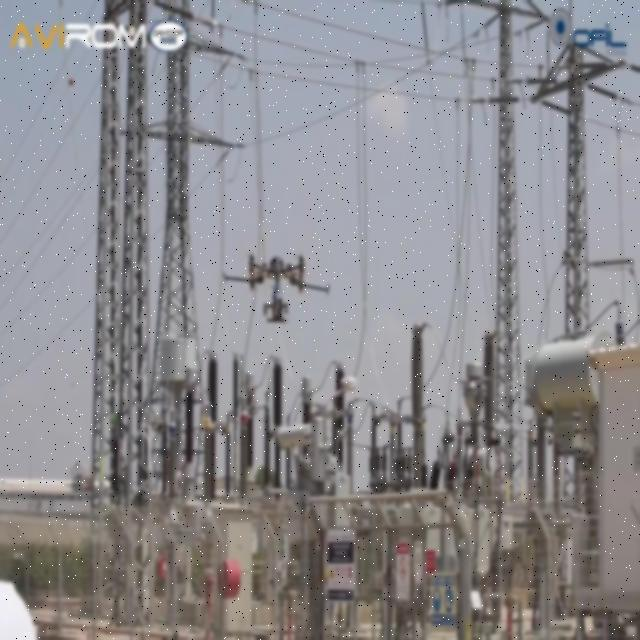UAV: (222, 252, 330, 294)
